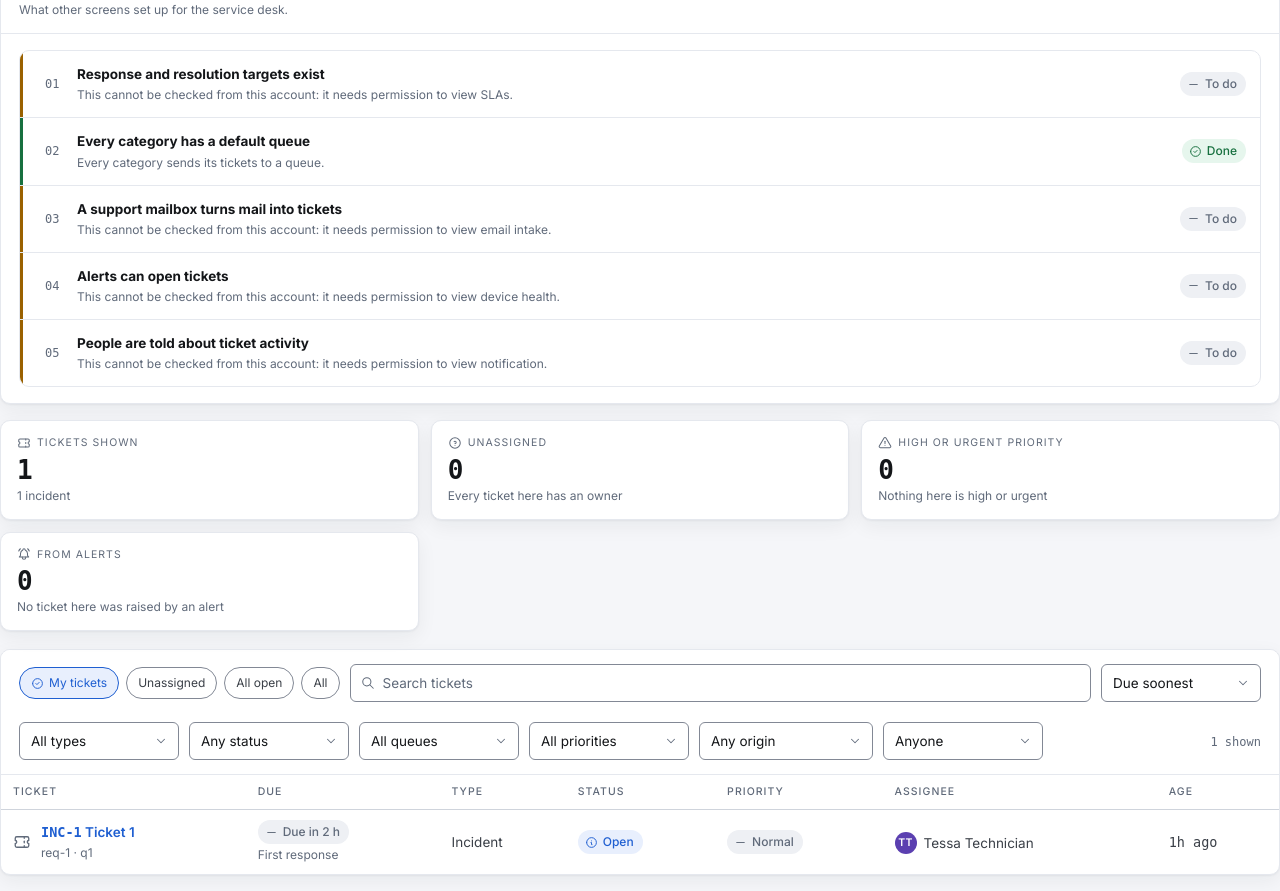
Scenario: the ticket queue › widens My tickets to All open when a person is picked
(page scrolled)
Expected: the link "INC-1" is shown, 41,824 -> 82,840
Select "Omar Other" in the dropdown named "Assignee": (963,741) 883,722 -> 1043,760
(page scrolled)
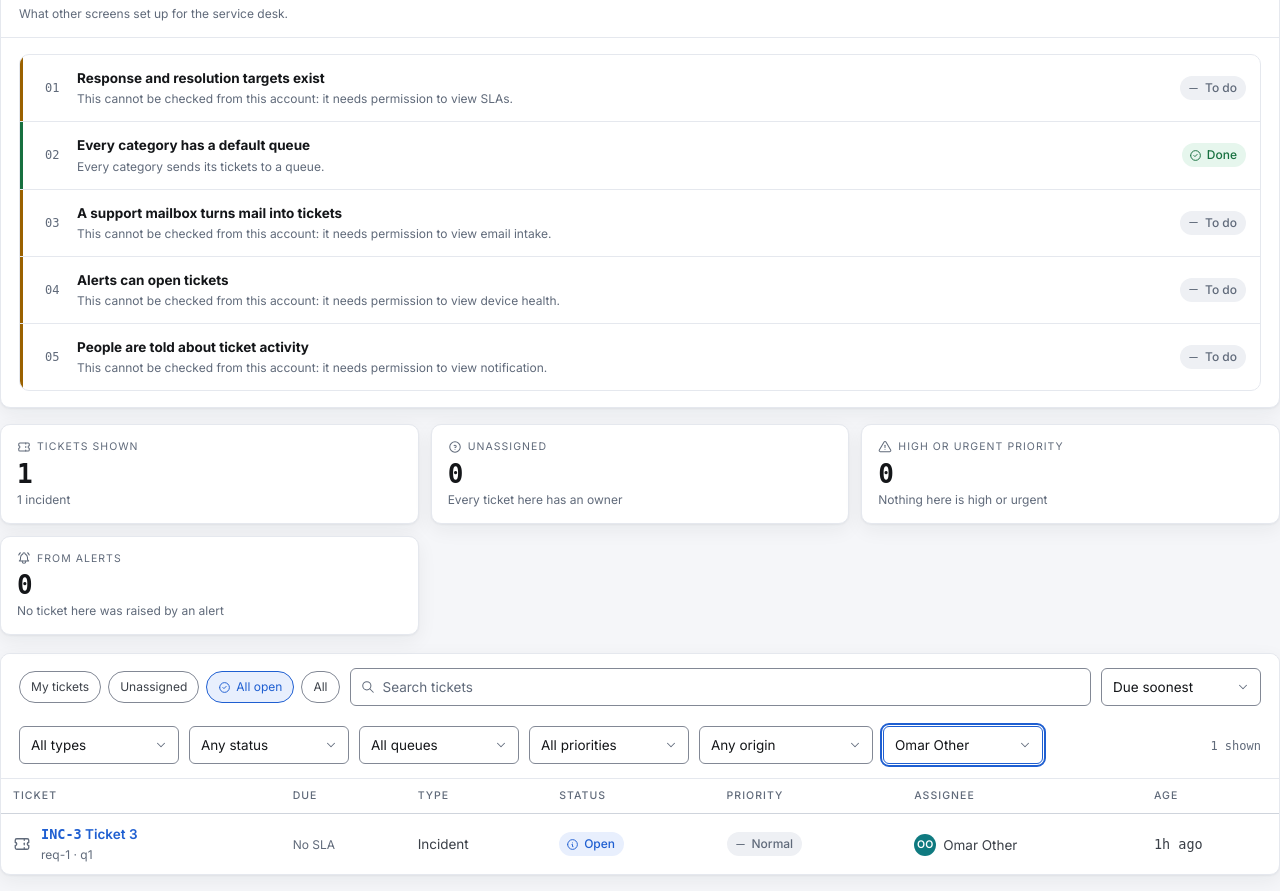
Now the link "INC-3" is shown, box 41,826 -> 82,842
